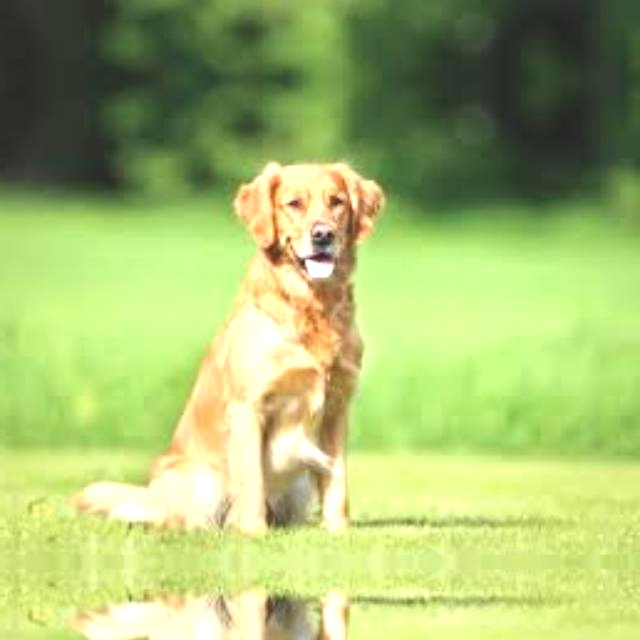dog: (71, 151, 387, 543), (71, 579, 387, 640), (71, 0, 387, 5)
